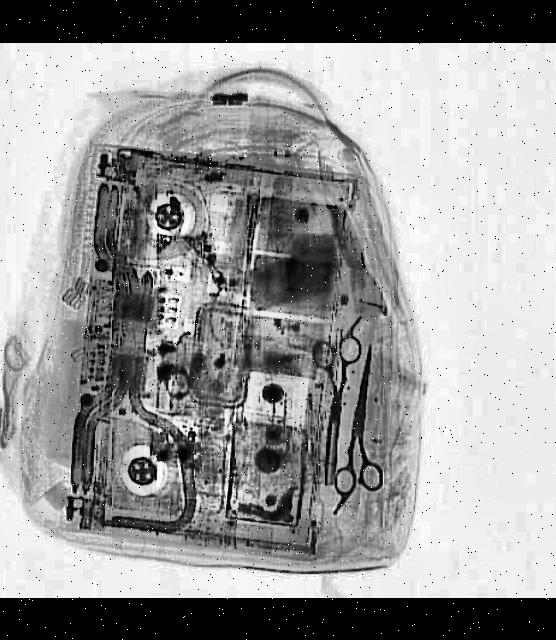Scissors: (330, 342, 393, 501), (297, 333, 361, 487)
